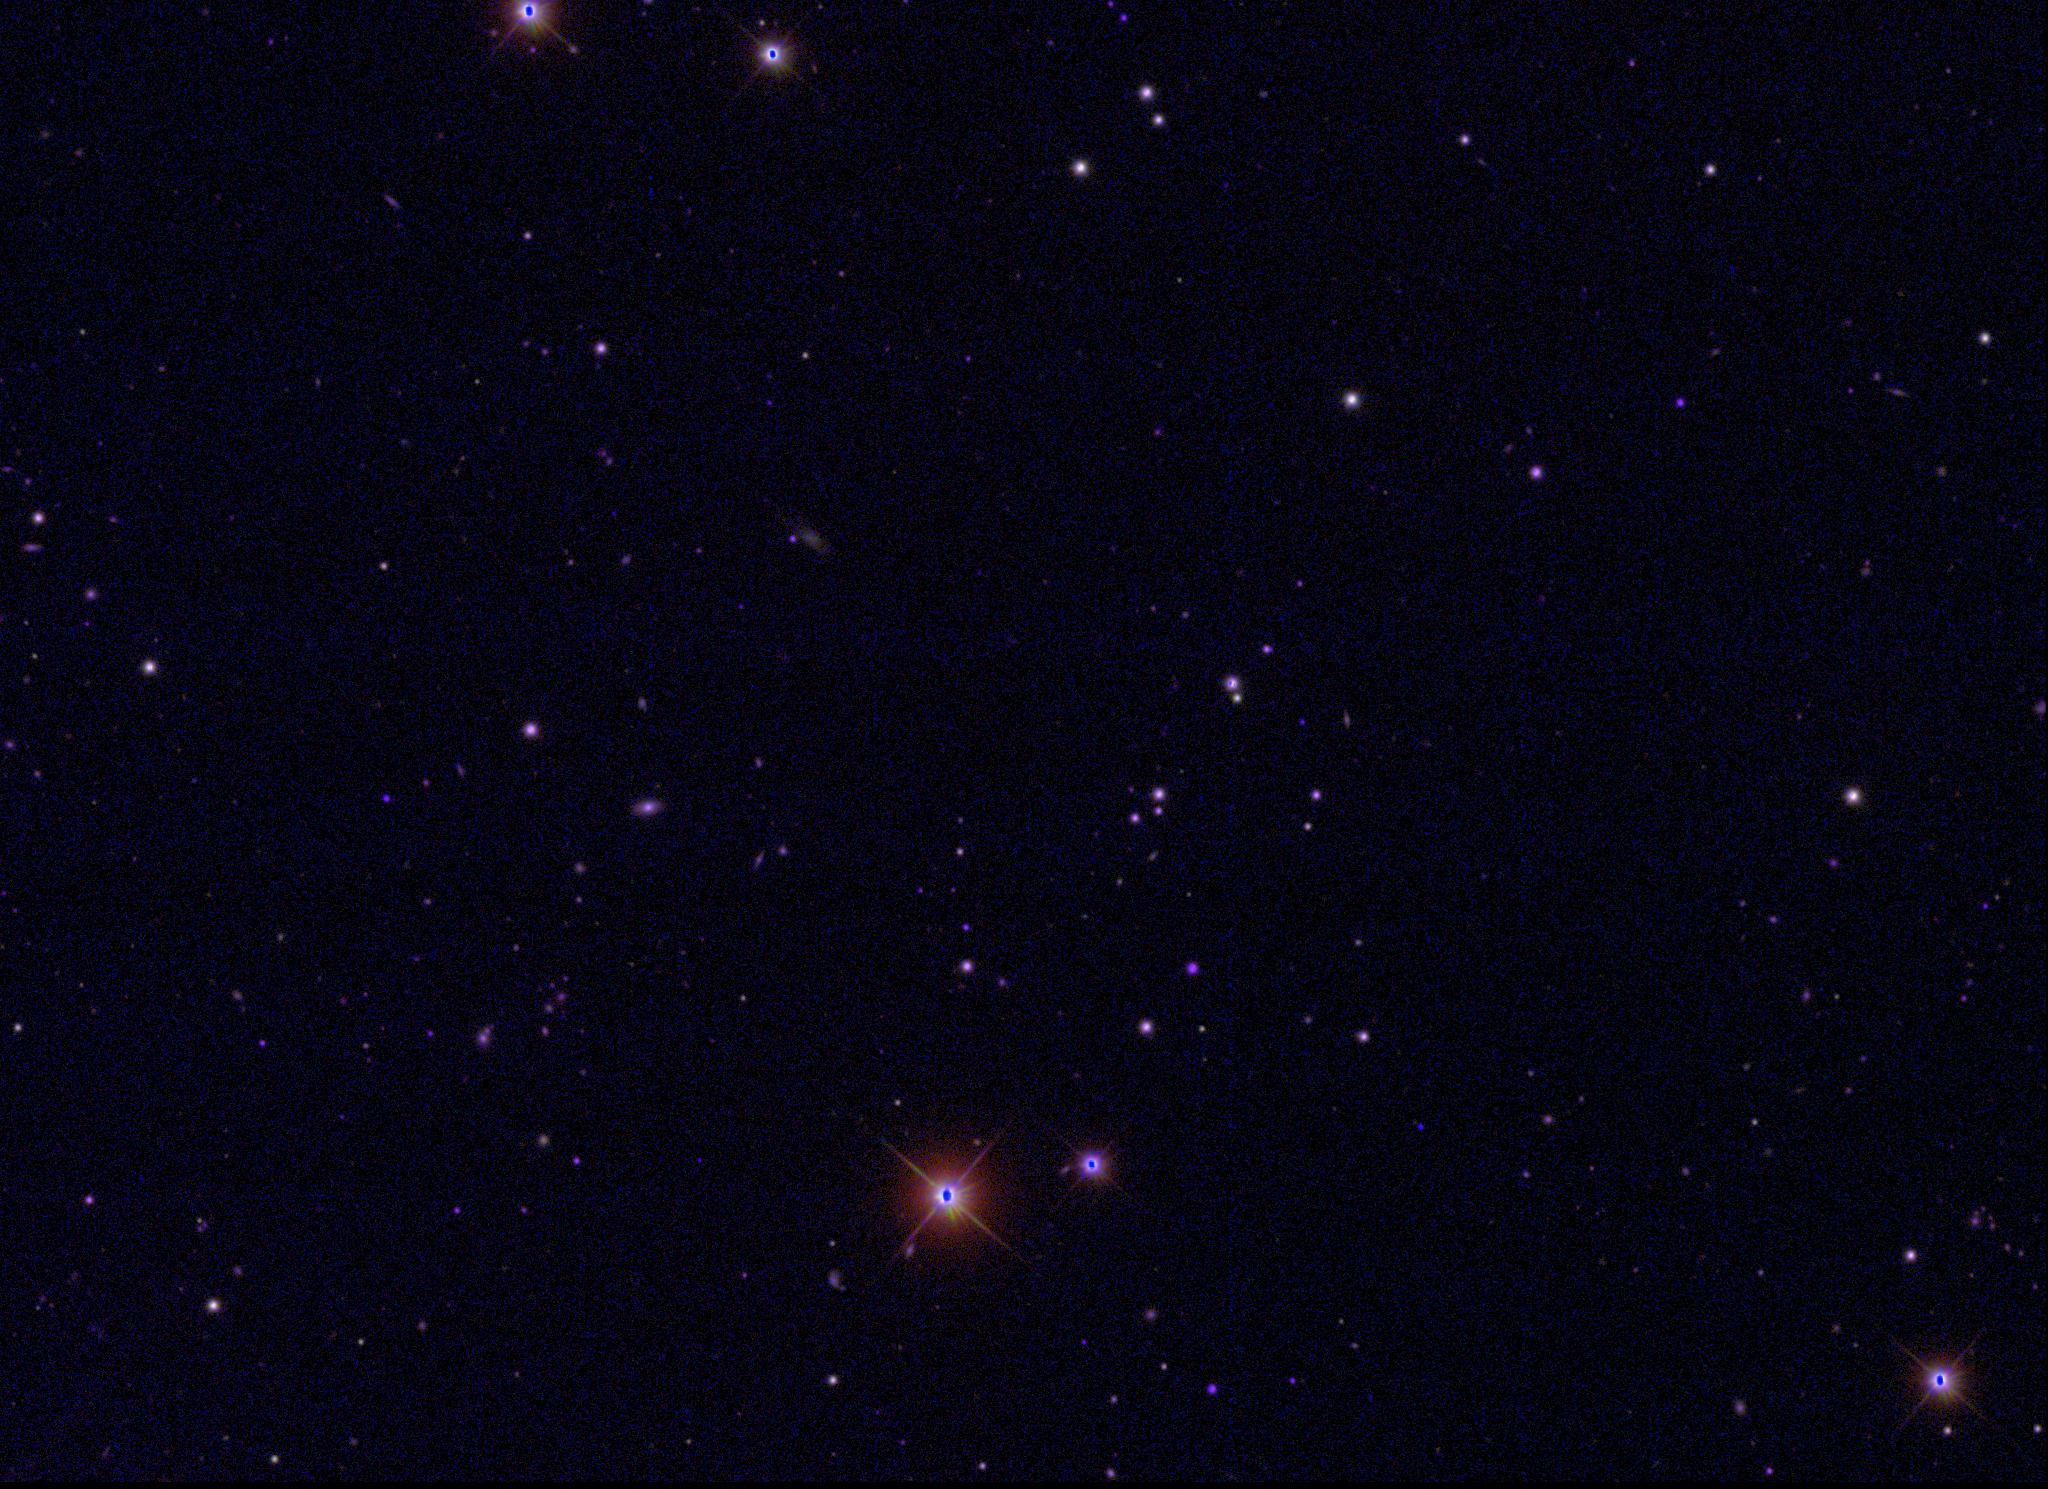L: (1414, 1115, 1426, 1129)
